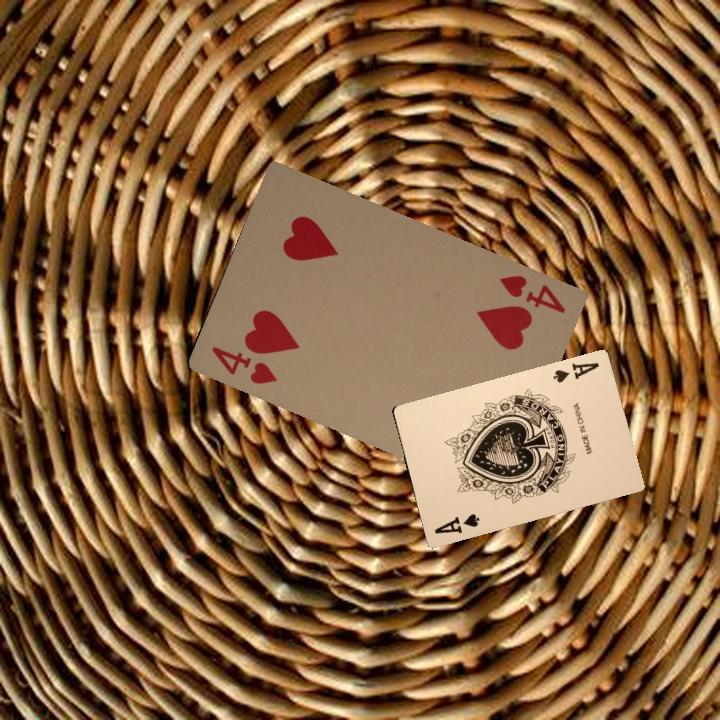4h: (495, 271, 568, 316), (207, 342, 279, 387)
As: (549, 358, 602, 385), (430, 510, 482, 536)
